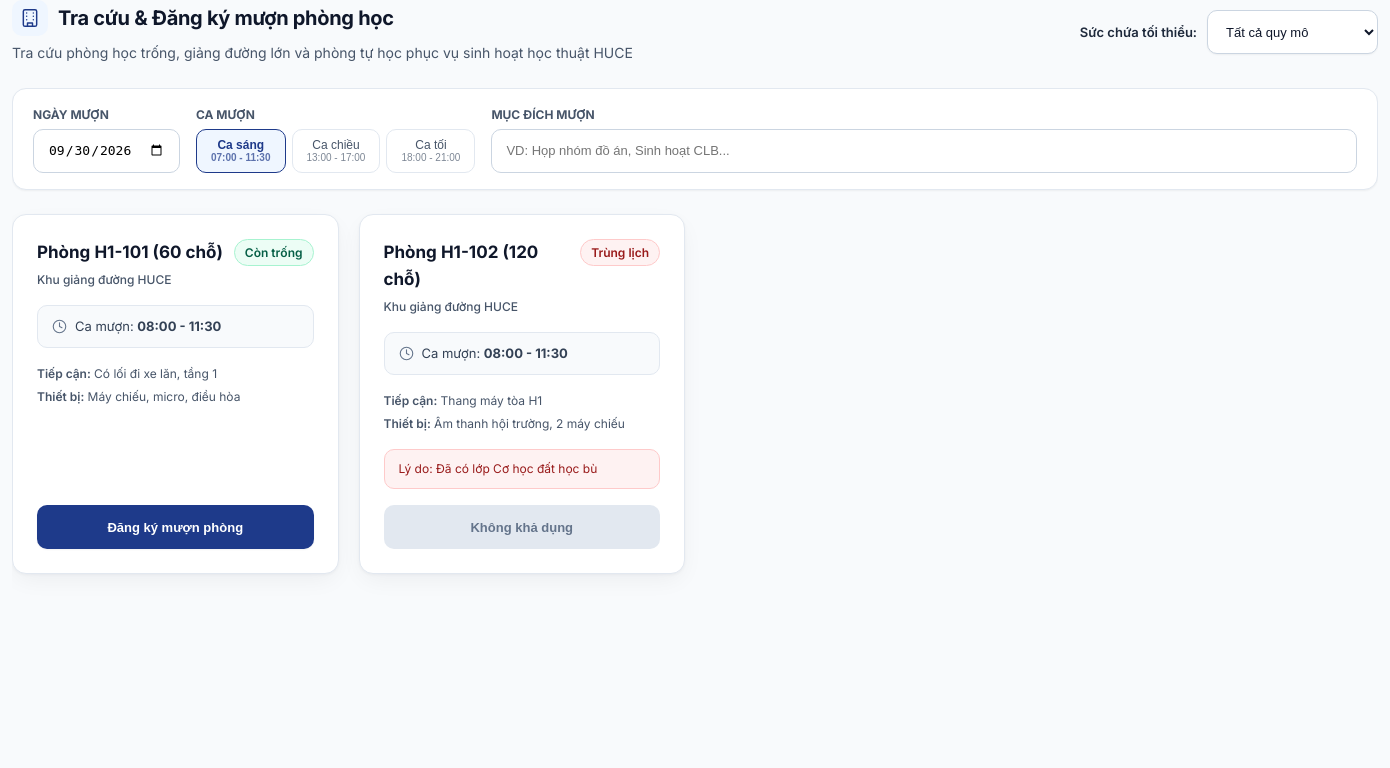
RoomBooking Component (TASK-WEB-ROOM-002) › filters rooms by capacity threshold
Select "Hội trường 100+ chỗ" in the dropdown labelled "Sức chứa tối thiểu:" at (1292, 32), box x1=1207 y1=10 x2=1378 y2=54
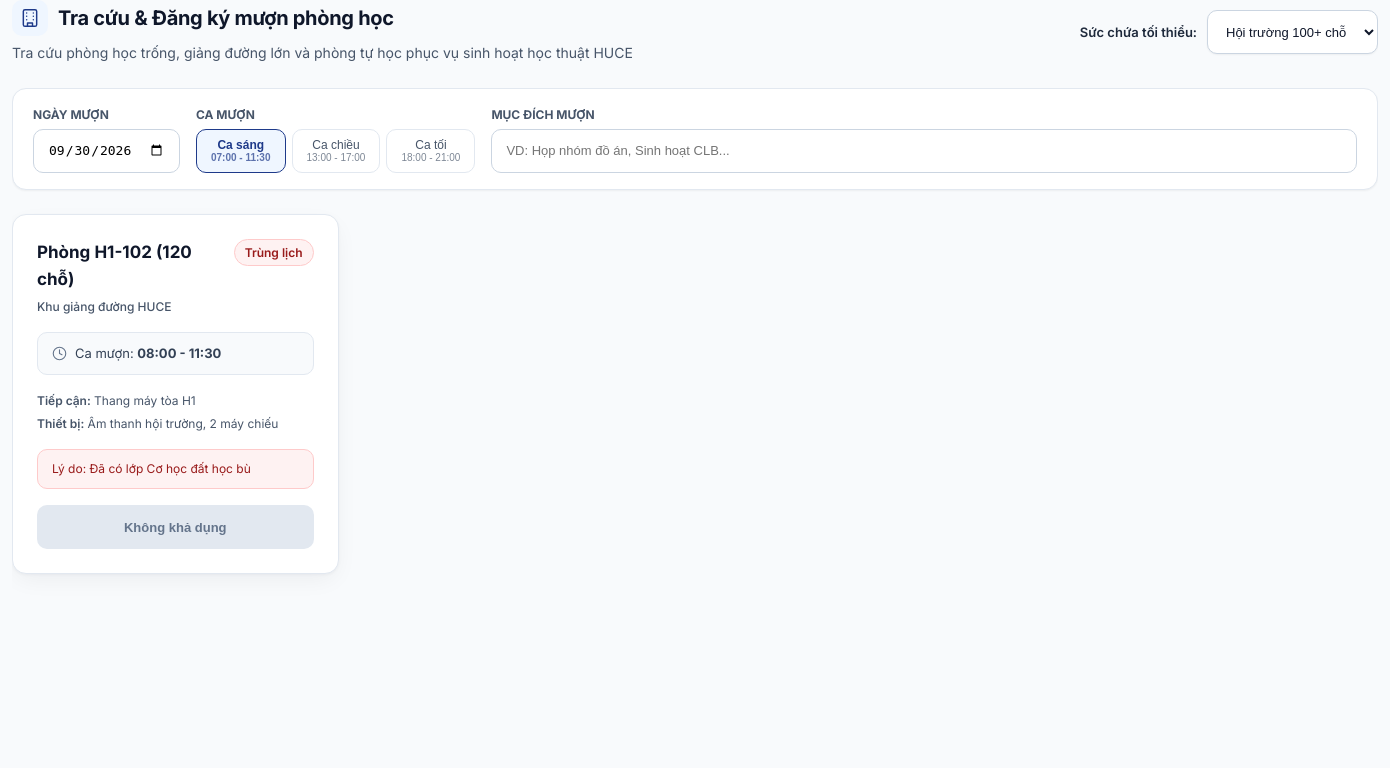
Expected: the heading "Phòng H1-102 (120 chỗ)" is shown, x1=37 y1=242 x2=192 y2=289
Expected: the heading "Phòng H1-101 (60 chỗ)" is gone
